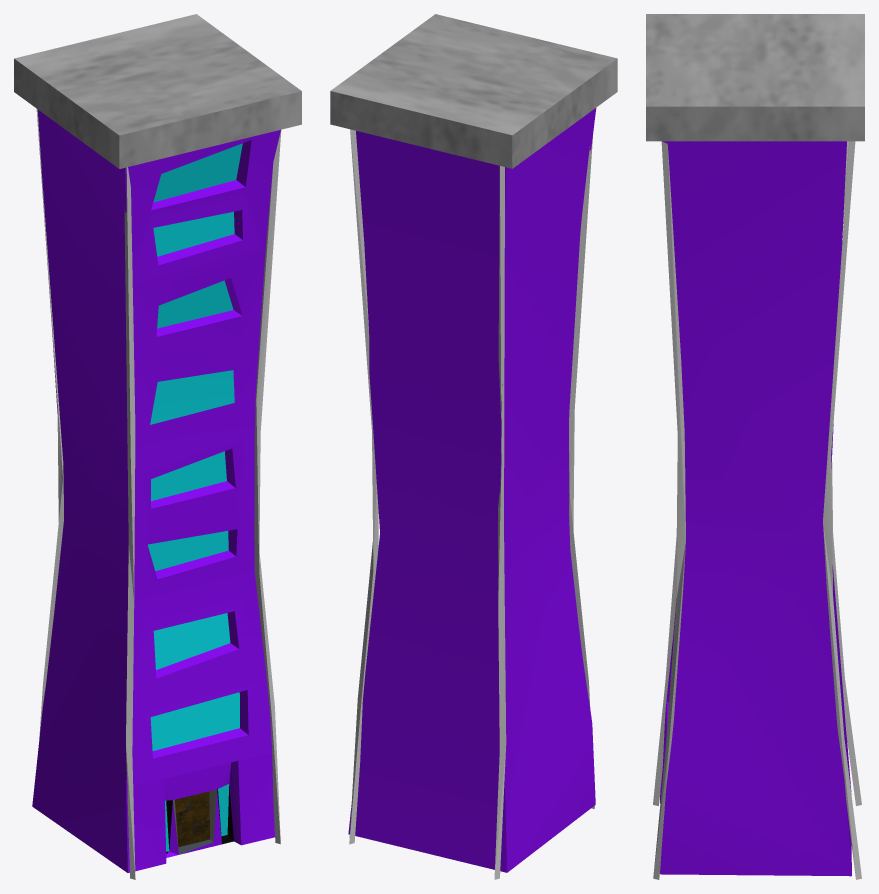
File: PredioAltoFino-RoxoLOD1.fbx
The picture shows the model from 3 angles, left to right: view 1: azimuth 30°, elevation 25°; view 2: azimuth 150°, elevation 25°; view 3: azimuth 270°, elevation 25°; orthographic projection. The views are drawn at different scales.
Visible parts, largest first — view 1: PredioAltoFinoLOD1; view 2: PredioAltoFinoLOD1; view 3: PredioAltoFinoLOD1.
Part boxes in pixels (x1=…): PredioAltoFinoLOD1: x1=14, y1=14, x2=301, y2=879; PredioAltoFinoLOD1: x1=330, y1=14, x2=617, y2=879; PredioAltoFinoLOD1: x1=646, y1=14, x2=864, y2=879.
Bounding box in the file's own units: 635 × 2498 × 635.
